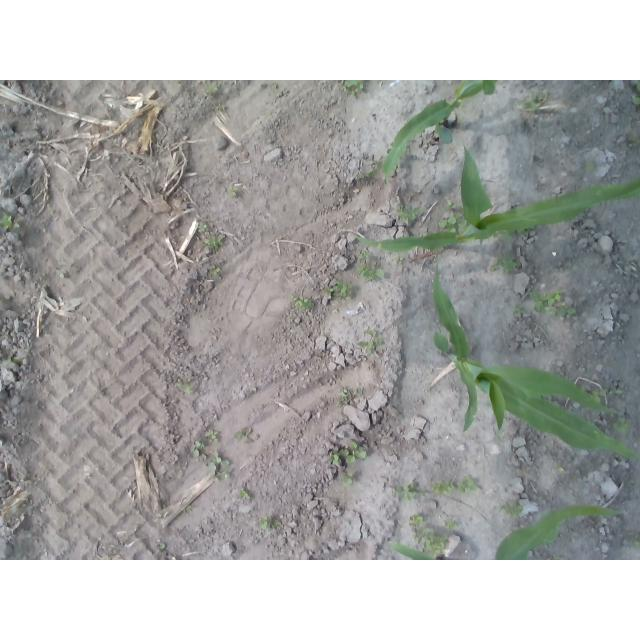Maize: (427, 252, 640, 463), (353, 143, 640, 250), (388, 504, 626, 560), (380, 80, 504, 185)
Weeds: (531, 289, 576, 317), (412, 526, 448, 556), (208, 451, 233, 481), (439, 213, 470, 234), (520, 91, 549, 113), (324, 280, 353, 301), (340, 441, 367, 463), (357, 159, 383, 180), (491, 255, 517, 274), (457, 475, 484, 493), (359, 262, 386, 280), (358, 337, 383, 355), (397, 204, 423, 221), (395, 483, 418, 502), (501, 501, 524, 520), (341, 80, 365, 98), (0, 210, 20, 231), (290, 295, 315, 310), (432, 481, 453, 496), (612, 416, 631, 432), (204, 236, 225, 250), (337, 389, 352, 407), (591, 389, 609, 403), (190, 440, 205, 456), (627, 531, 640, 549), (175, 381, 193, 394), (493, 230, 514, 241), (202, 82, 219, 95), (340, 472, 354, 487), (632, 82, 640, 107), (205, 429, 220, 442), (327, 452, 341, 465), (208, 264, 221, 277), (409, 513, 423, 525), (237, 487, 251, 499), (197, 221, 212, 232), (443, 520, 457, 531), (259, 515, 270, 529), (517, 226, 532, 236), (584, 161, 597, 172), (358, 251, 371, 262), (226, 185, 239, 195), (234, 429, 247, 439), (444, 201, 456, 211), (2, 357, 18, 364), (363, 329, 378, 336), (514, 305, 524, 315), (610, 389, 624, 396), (554, 464, 566, 472), (271, 520, 281, 529), (182, 504, 193, 512), (420, 488, 429, 497), (630, 133, 638, 142), (215, 104, 225, 111), (396, 256, 404, 264), (354, 390, 363, 394)
